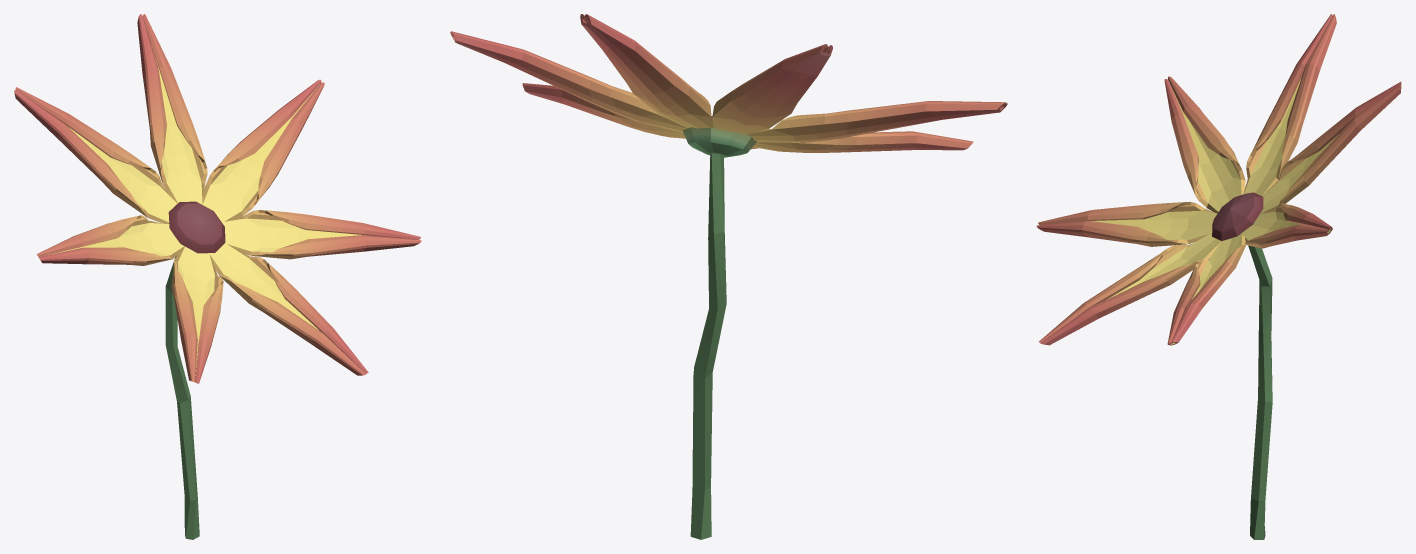
Rendered from DahliaStar_Yellow.fbx.
The picture shows the model from 3 angles, left to right: view 1: azimuth 30°, elevation 25°; view 2: azimuth 150°, elevation 25°; view 3: azimuth 270°, elevation 25°; orthographic projection. The views are drawn at different scales.
Visible parts, largest first — view 1: DahliaStar_Yellow; view 2: DahliaStar_Yellow; view 3: DahliaStar_Yellow.
Part boxes in pixels (x1,y1,x2,y2): DahliaStar_Yellow: (14,14,421,539); DahliaStar_Yellow: (450,14,1007,539); DahliaStar_Yellow: (1036,14,1401,539).
Bounding box in the file's own units: 33.89 × 39.09 × 27.77.
